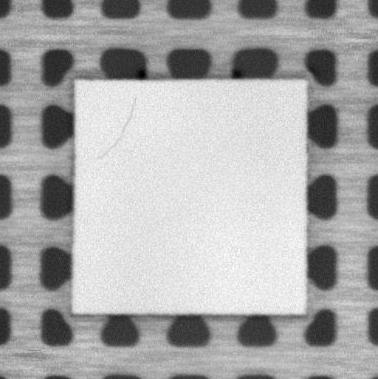DIE_CRACK: (97, 96, 137, 160)
